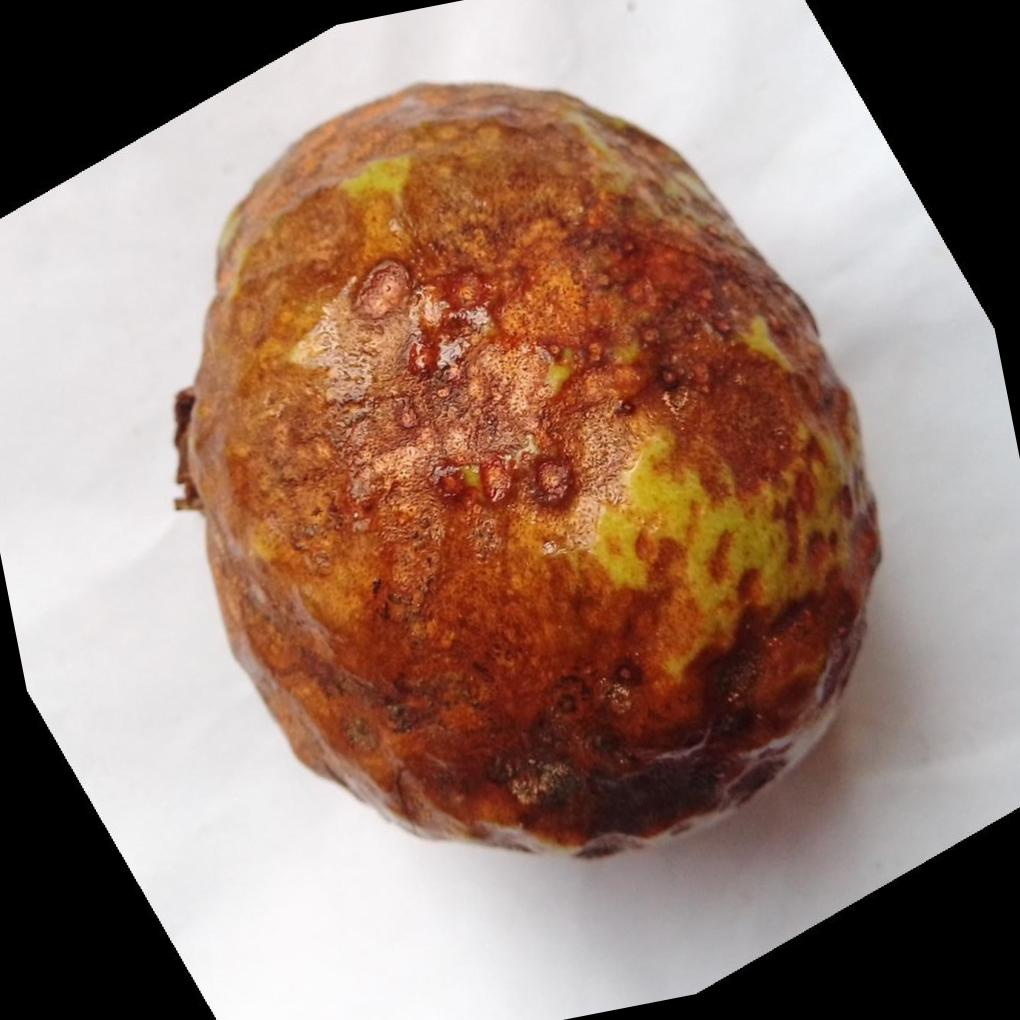FreshOrange: (169, 79, 880, 861)
